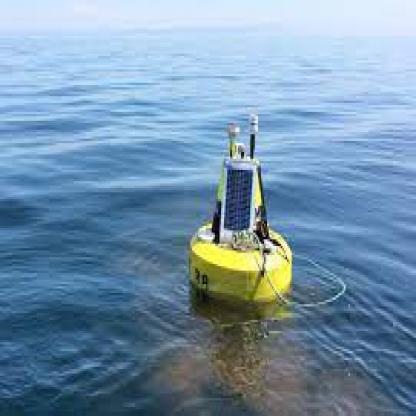buoy: (181, 105, 304, 313)
